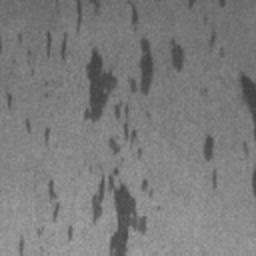Red iron sheet: (46, 0, 186, 256), (188, 0, 227, 56), (239, 70, 256, 141), (23, 116, 51, 146), (204, 132, 218, 189), (18, 234, 26, 256), (250, 169, 256, 195), (4, 92, 13, 108)
